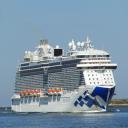cruises: (12, 36, 119, 117)
